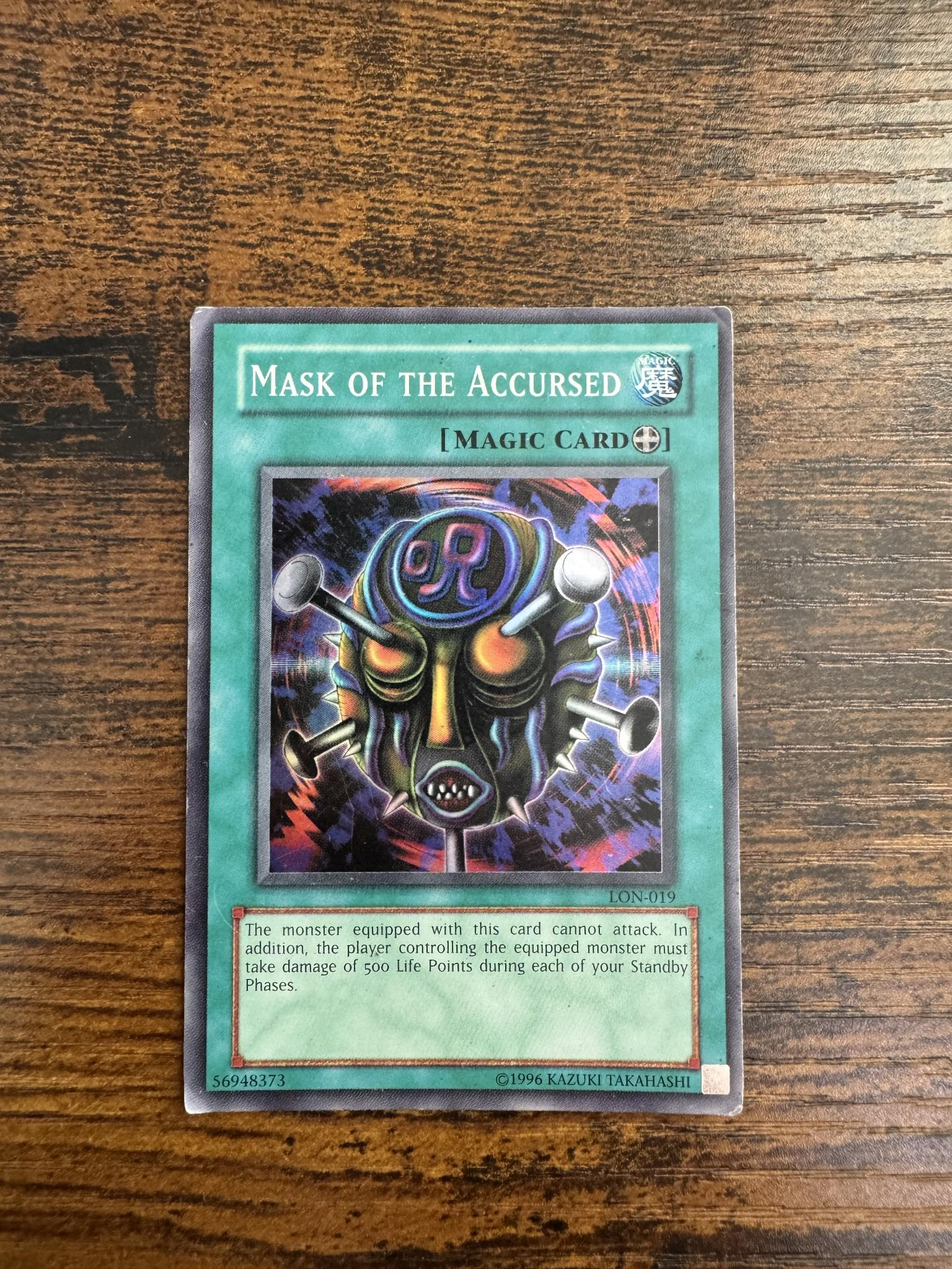card-2UtV: (183, 306, 744, 1116)
